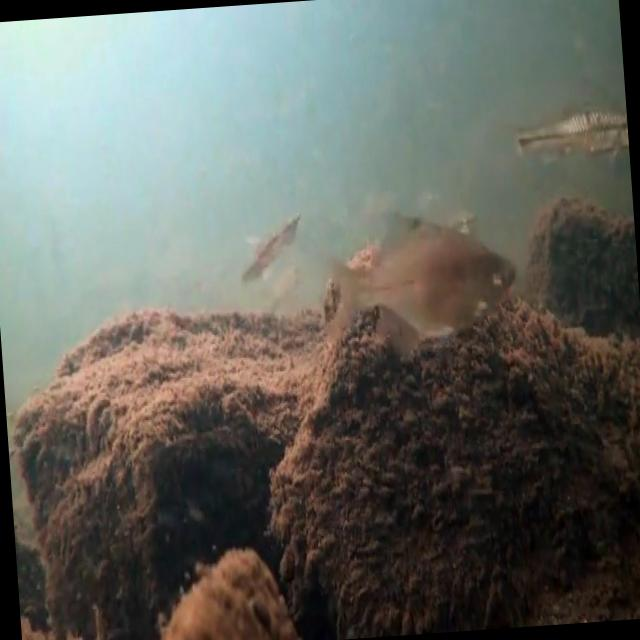Cakil Baligi: (306, 200, 524, 367)
